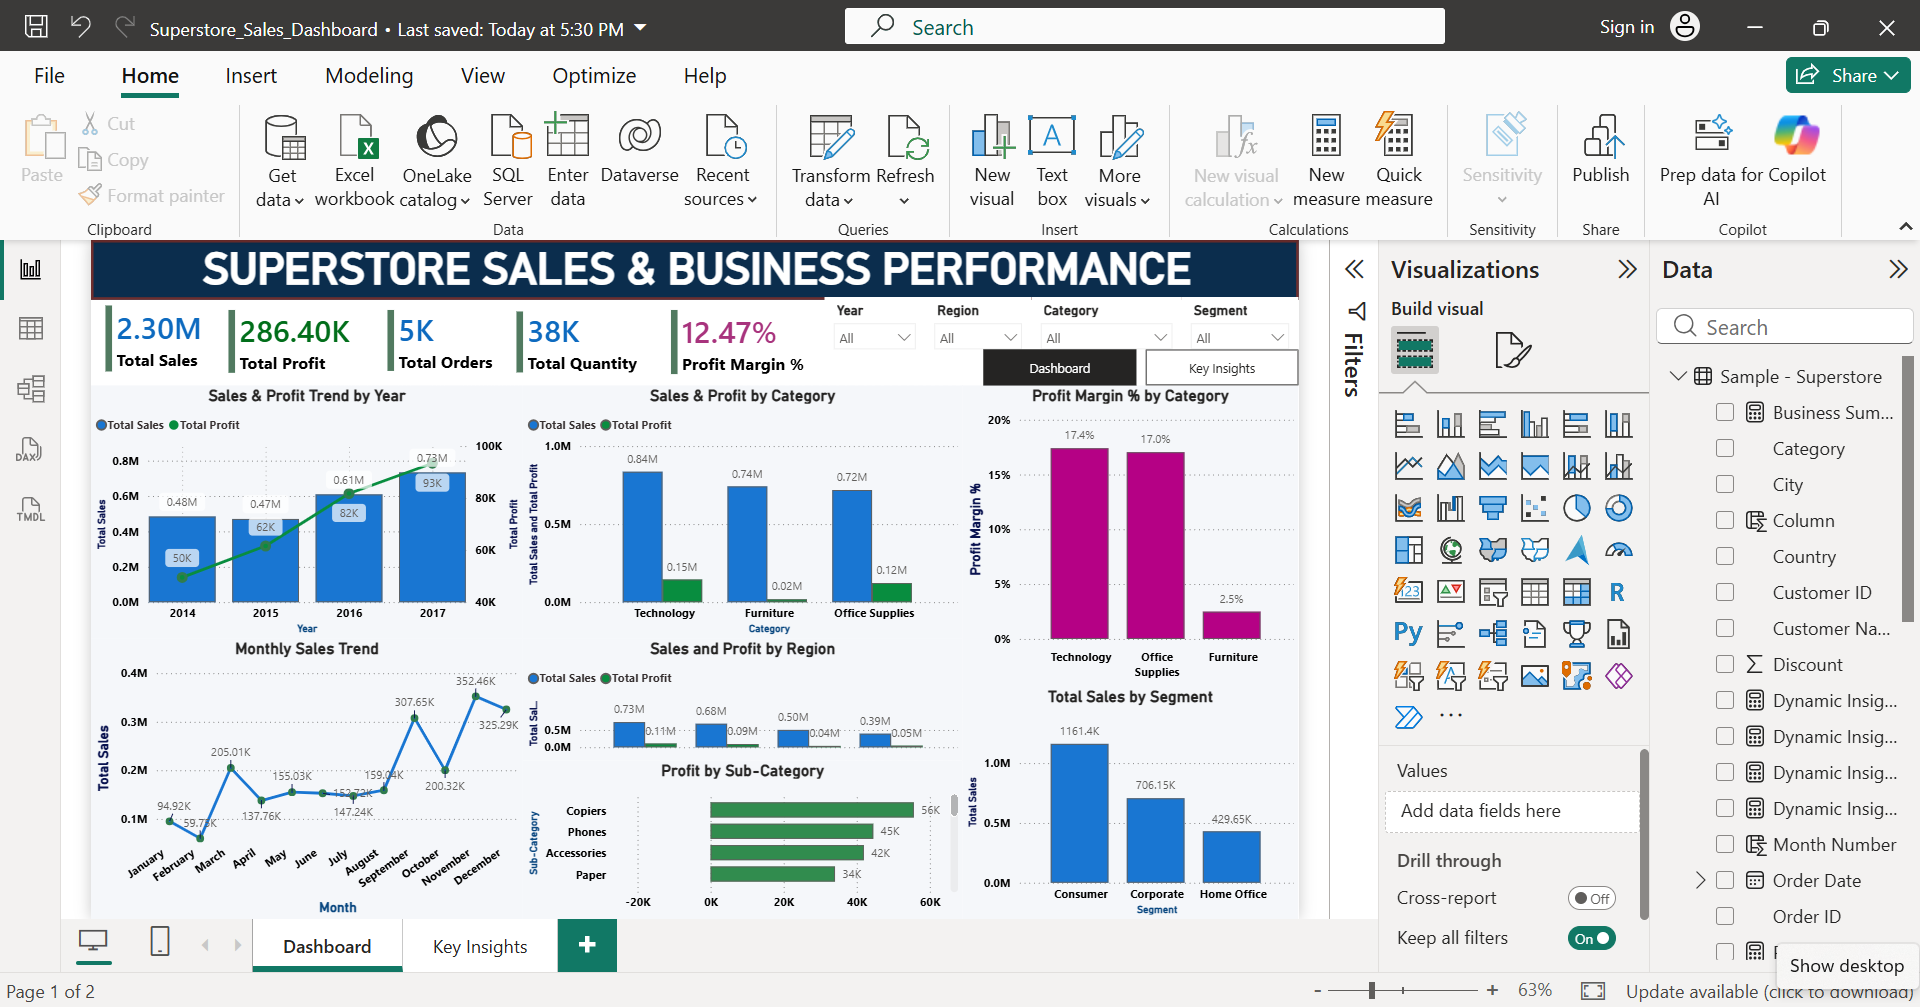

Layout of this report page (visuals, bound fields, positions):
{"tool":"powerbi","page":{"name":"Dashboard","canvas":[1280,720],"ordinal":0},"visuals":[{"type":"cardVisual","fields":{"Data":["Sample - Superstore.Total Sales"]},"box":[0,54.1,175,100.2],"z":0},{"type":"cardVisual","fields":{"Data":["Sample - Superstore.Total Profit"]},"box":[130.4,58.9,181.3,97],"z":1000},{"type":"cardVisual","fields":{"Data":["Sample - Superstore.Total Orders"]},"box":[299,58.9,154.3,95.4],"z":2000},{"type":"cardVisual","fields":{"Data":["Sample - Superstore.Total Quantity"]},"box":[435.8,60.4,175,95.4],"z":3000},{"type":"cardVisual","fields":{"Data":["Sample - Superstore.Profit Margin %"]},"box":[599.7,58.9,186.1,98.6],"z":4000},{"type":"lineClusteredColumnComboChart","title":"Sales & Profit Trend by Year","fields":{"Category":["Sample - Superstore.Order Date.Variation.Date Hierarchy.Year"],"Y":["Sample - Superstore.Total Sales"],"Y2":["Sample - Superstore.Total Profit"]},"box":[0,154.3,458.1,268.8],"z":5000},{"type":"clusteredColumnChart","title":"Sales & Profit by Category","fields":{"Category":["Sample - Superstore.Category"],"Y":["Sample - Superstore.Total Sales","Sample - Superstore.Total Profit"]},"box":[458.1,154.3,466,268.8],"z":6000},{"type":"clusteredColumnChart","title":"Sales and Profit by Region","fields":{"Category":["Sample - Superstore.Region"],"Y":["Sample - Superstore.Total Sales","Sample - Superstore.Total Profit"]},"box":[458.1,423.1,466,128.8],"z":7000},{"type":"barChart","title":"Profit by Sub-Category","fields":{"Y":["Sample - Superstore.Total Profit"],"Category":["Sample - Superstore.Sub-Category"]},"box":[458.1,551.9,466,168.6],"z":8000},{"type":"lineChart","title":"Monthly Sales Trend","fields":{"Y":["Sample - Superstore.Total Sales"],"Category":["Sample - Superstore.Order Date.Variation.Date Hierarchy.Month"]},"box":[0,423.1,458.1,297.4],"z":9000},{"type":"textbox","title":"SUPERSTORE SALES & BUSINESS PERFORMANCE","box":[0,0,1280.4,63.6],"z":10000},{"type":"clusteredColumnChart","fields":{"Category":["Sample - Superstore.Category"],"Y":["Sample - Superstore.Profit Margin %"]},"box":[924.1,154.3,356.3,319.7],"z":11000},{"type":"columnChart","fields":{"Category":["Sample - Superstore.Segment"],"Y":["Sample - Superstore.Total Sales"]},"box":[924.1,474,356.3,246.5],"z":12000},{"type":"slicer","fields":{"Values":["Sample - Superstore.Order Date.Variation.Date Hierarchy.Year"]},"box":[777.8,60.4,106.6,57.3],"z":13000},{"type":"slicer","fields":{"Values":["Sample - Superstore.Region"]},"box":[884.4,60.4,112.9,60.4],"z":14000},{"type":"slicer","fields":{"Values":["Sample - Superstore.Category"]},"box":[997.3,60.4,159.1,65.2],"z":15000},{"type":"slicer","fields":{"Values":["Sample - Superstore.Segment"]},"box":[1156.4,60.4,124.1,55.7],"z":16000},{"type":"pageNavigator","box":[946.4,116.1,334,38.2],"z":17000}]}

Visuals, with their boxes on the page's 1280x720 design canvas (x1, y1, x2, y2). These are canvas units, not pixel positions in the 1920x1007 screenshot, which may show the page scaled, cropped or inside an application window:
cardVisual - Sample - Superstore.Total Sales: x1=0, y1=54, x2=175, y2=154
cardVisual - Sample - Superstore.Total Profit: x1=130, y1=59, x2=312, y2=156
cardVisual - Sample - Superstore.Total Orders: x1=299, y1=59, x2=453, y2=154
cardVisual - Sample - Superstore.Total Quantity: x1=436, y1=60, x2=611, y2=156
cardVisual - Sample - Superstore.Profit Margin %: x1=600, y1=59, x2=786, y2=158
"Sales & Profit Trend by Year" lineClusteredColumnComboChart: x1=0, y1=154, x2=458, y2=423
"Sales & Profit by Category" clusteredColumnChart: x1=458, y1=154, x2=924, y2=423
"Sales and Profit by Region" clusteredColumnChart: x1=458, y1=423, x2=924, y2=552
"Profit by Sub-Category" barChart: x1=458, y1=552, x2=924, y2=720
"Monthly Sales Trend" lineChart: x1=0, y1=423, x2=458, y2=720
"SUPERSTORE SALES & BUSINESS PERFORMANCE" textbox: x1=0, y1=0, x2=1280, y2=64
clusteredColumnChart - Sample - Superstore.Category x Sample - Superstore.Profit Margin %: x1=924, y1=154, x2=1280, y2=474
columnChart - Sample - Superstore.Segment x Sample - Superstore.Total Sales: x1=924, y1=474, x2=1280, y2=720
slicer - Sample - Superstore.Order Date.Variation.Date Hierarchy.Year: x1=778, y1=60, x2=884, y2=118
slicer - Sample - Superstore.Region: x1=884, y1=60, x2=997, y2=121
slicer - Sample - Superstore.Category: x1=997, y1=60, x2=1156, y2=126
slicer - Sample - Superstore.Segment: x1=1156, y1=60, x2=1280, y2=116
pageNavigator: x1=946, y1=116, x2=1280, y2=154
